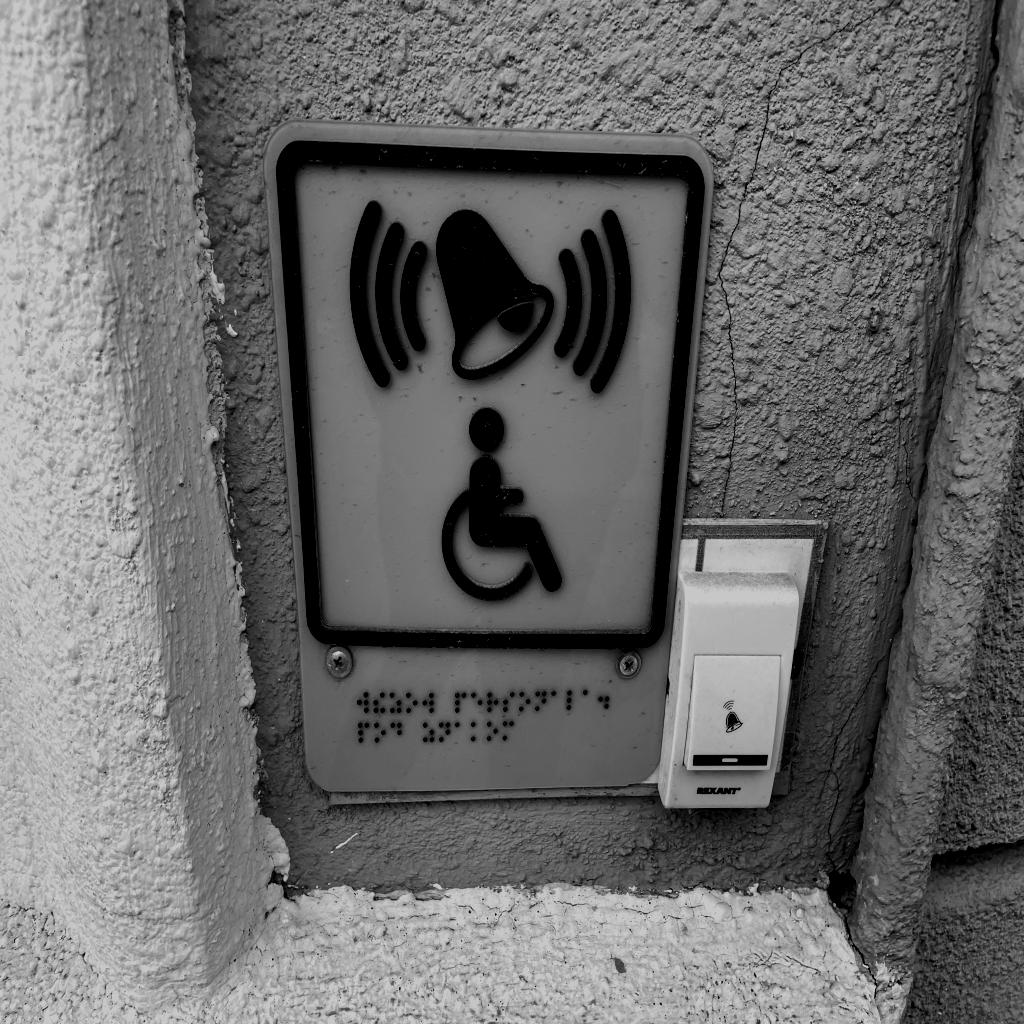_n: (535, 690, 547, 712), (439, 721, 451, 743)
a: (551, 690, 563, 712), (455, 721, 466, 742), (583, 689, 593, 711)
d: (390, 722, 402, 745)
e: (471, 692, 483, 714)
ii: (373, 691, 385, 714)
k: (471, 721, 483, 742)
l: (567, 690, 579, 711)
m: (502, 720, 515, 742)
o: (405, 692, 418, 714), (486, 720, 498, 742), (374, 722, 386, 743), (519, 691, 530, 712)
p: (357, 722, 369, 744), (455, 692, 466, 714)
r: (486, 692, 498, 713)
s: (503, 691, 515, 712)
tochka: (597, 687, 609, 710)
v: (422, 693, 434, 714), (357, 692, 368, 713)
z: (389, 691, 401, 714), (422, 722, 434, 744)
